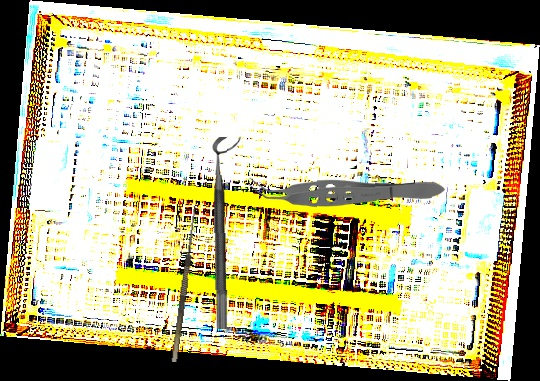Fixation Ring: (211, 136, 245, 329)
Hook Surgical: (163, 204, 199, 363)
Tissue Forceps: (246, 173, 446, 209)
